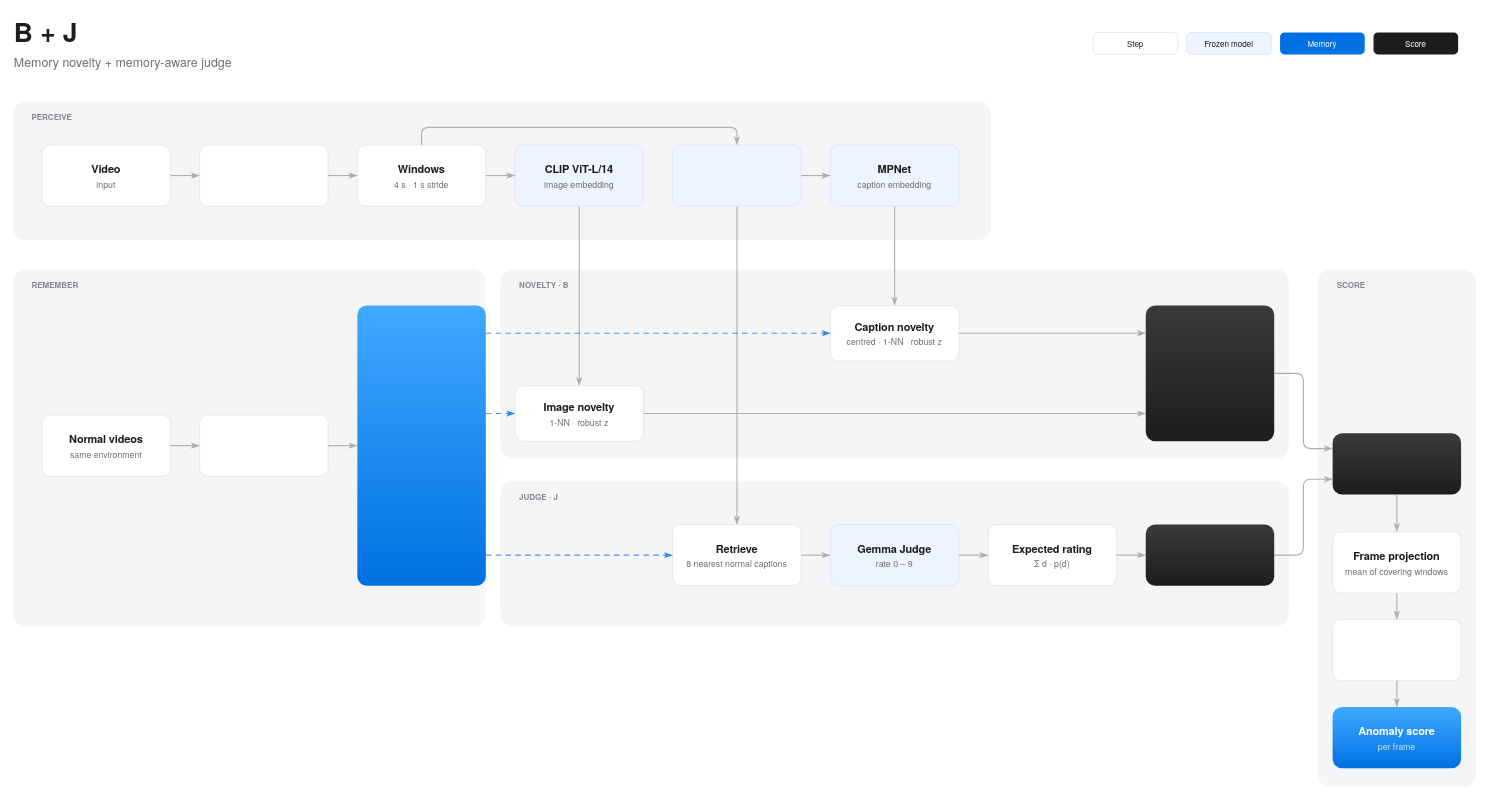
The diagram is 1494 pixels wide and 799 high, and some of its shapes have lost their labels. The shapes that lost their labels are listed below. From the top down, each one's centre as x and y in pixels, then its label:
At pixel 263 175: "Frames 1 fps".
At pixel 736 175: "Gemma 4 31B window caption".
At pixel 1209 373: "B z txt + 0.25 z img".
At pixel 263 445: "Perceive same pipeline".
At pixel 421 445: "Normal Memory images · captions normal statistics".
At pixel 1396 463: "B + J per window".
At pixel 1209 554: "J z vs normal ratings".
At pixel 1396 650: "Smoothing min(36 s, length / 4)".
